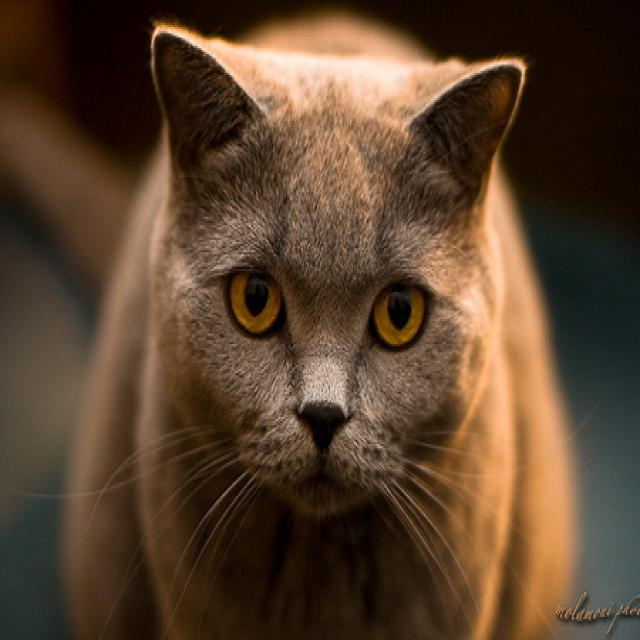British Shorthair: (58, 12, 573, 640)
